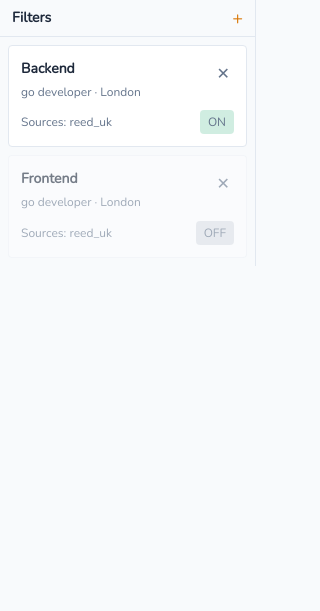
Scenario: FilterPanel › shows create form when + button is clicked
Click the button named "add filter" at coordinates (238, 18), box [232,9,243,27]
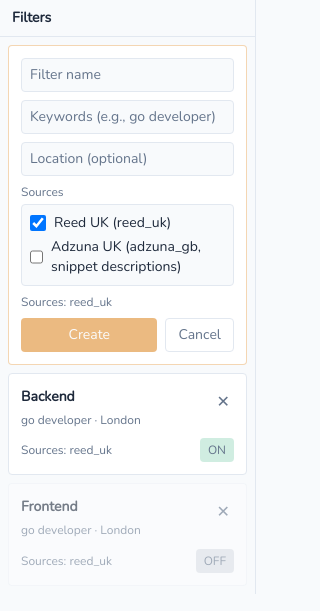
Expected: the field labelled "Filter name" is shown, [21,58,234,92]
